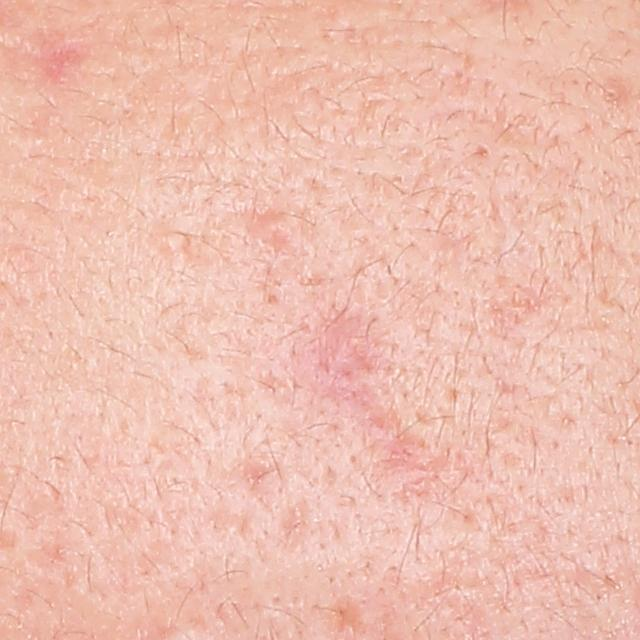comedo: (157, 227, 189, 258), (602, 83, 622, 104)
